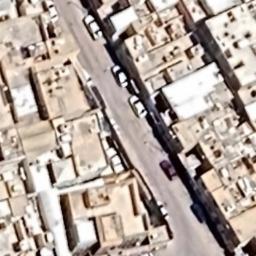sedan: (83, 11, 106, 42), (127, 92, 149, 118), (111, 62, 132, 88), (158, 157, 178, 183)
